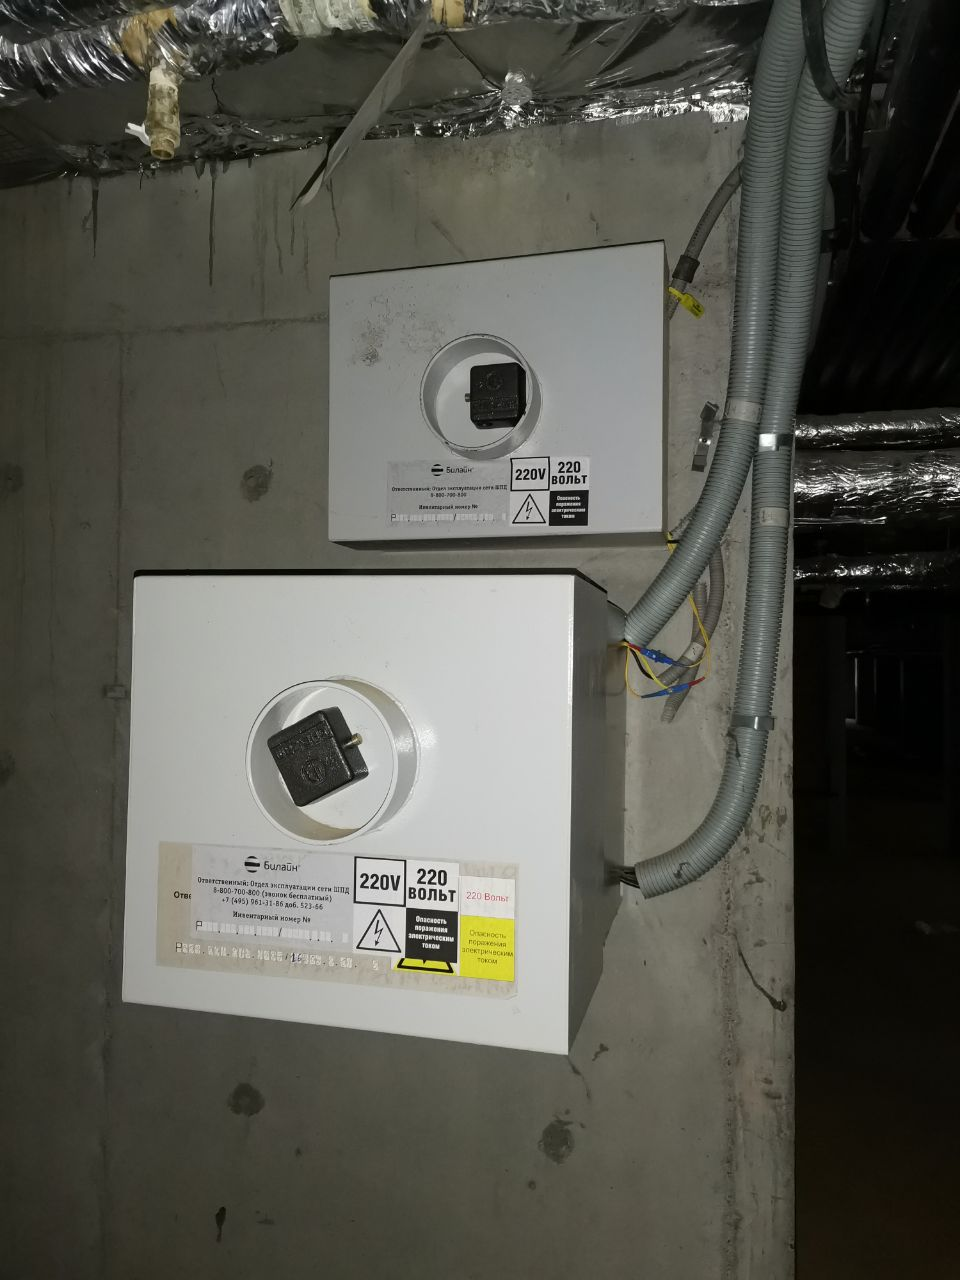shta-3: (326, 239, 673, 555)
shta-9: (117, 569, 634, 1059)
